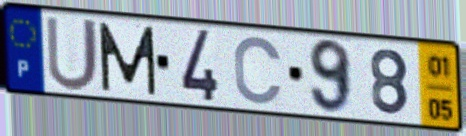4: (177, 27, 221, 105)
8: (367, 46, 412, 118)
9: (306, 37, 355, 118)
C: (231, 34, 286, 108)
M: (95, 20, 160, 98)
U: (43, 14, 101, 94)
